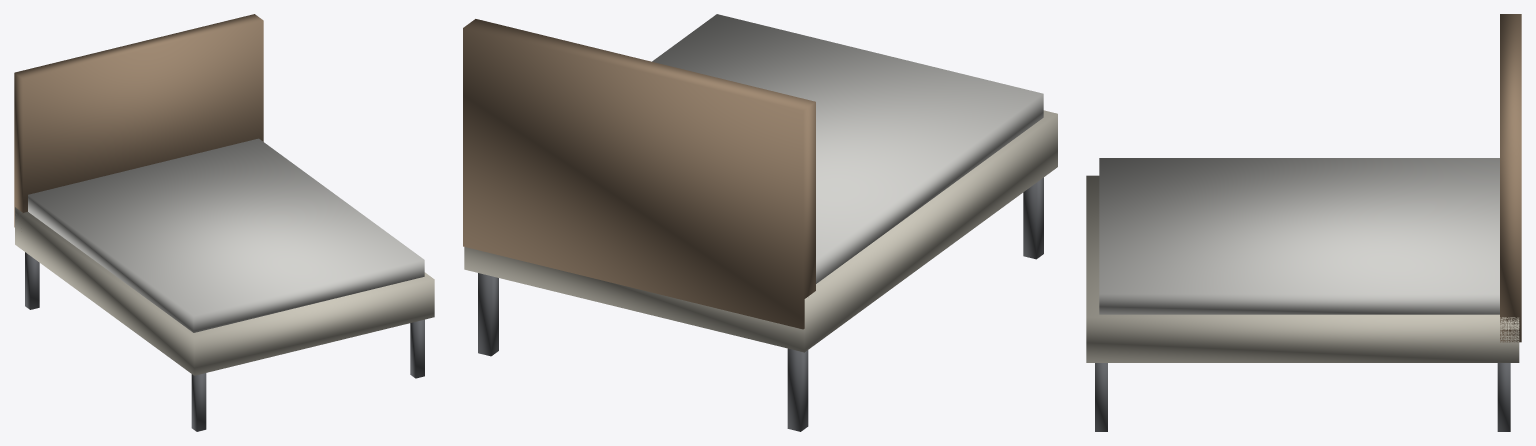
The model's file is double_bed__tall.glb.
The picture shows the model from 3 angles, left to right: view 1: azimuth 30°, elevation 25°; view 2: azimuth 150°, elevation 25°; view 3: azimuth 270°, elevation 25°; orthographic projection. The views are drawn at different scales.
Visible parts, largest first — view 1: world; view 2: world; view 3: world.
Part boxes in pixels (x1,y1,x2,y2): world: [14, 14, 434, 431]; world: [463, 14, 1057, 431]; world: [1086, 14, 1521, 431].
Size of the model in its own units: 1.55 by 1.43 by 2.01.
